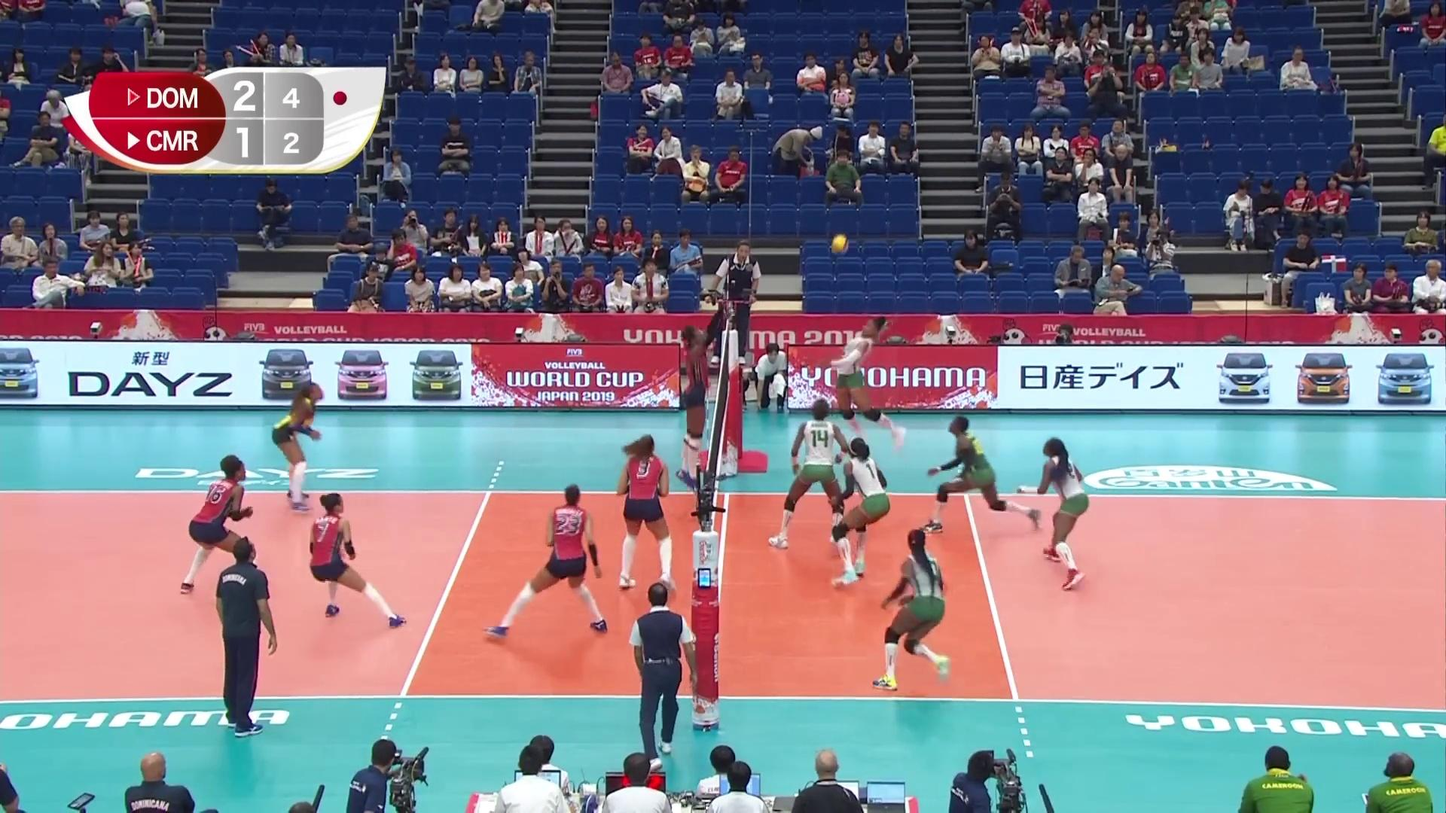player: (490, 485, 608, 639), (310, 496, 412, 629), (928, 417, 1042, 532), (764, 397, 848, 550), (877, 529, 952, 688), (1019, 437, 1092, 591), (182, 456, 261, 597), (824, 317, 906, 449), (617, 434, 680, 587), (831, 438, 889, 589), (270, 383, 328, 509), (679, 304, 717, 492)
refree: (631, 583, 697, 772), (713, 239, 761, 370)
